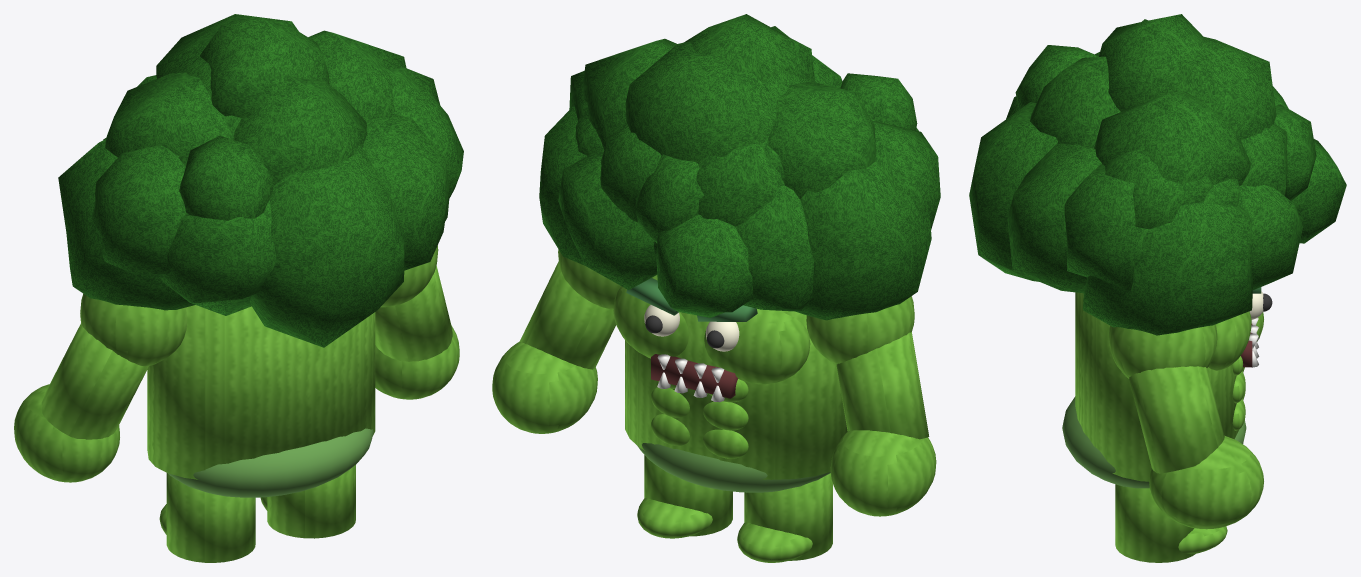
The model's file is broccoli_brute.glb.
3 views of the same model, side by side, from view 1: azimuth 30°, elevation 25°; view 2: azimuth 150°, elevation 25°; view 3: azimuth 270°, elevation 25° (orthographic). The views are drawn at different scales.
Visible parts, largest first — view 1: BruteBody, BruteLeftArm, BruteRightArm, BruteLeftLeg, BruteRightLeg; view 2: BruteBody, BruteLeftArm, BruteRightArm, BruteLeftLeg, BruteRightLeg; view 3: BruteBody, BruteRightArm, BruteRightLeg.
Part boxes in pixels (x1,y1,x2,y2): BruteBody: [58, 14, 463, 497]; BruteLeftArm: [14, 294, 187, 482]; BruteRightArm: [375, 245, 459, 399]; BruteLeftLeg: [159, 473, 255, 562]; BruteRightLeg: [260, 465, 355, 538]; BruteBody: [539, 14, 940, 492]; BruteLeftArm: [806, 296, 936, 516]; BruteRightArm: [492, 249, 620, 433]; BruteLeftLeg: [737, 473, 832, 562]; BruteRightLeg: [637, 455, 732, 538]; BruteBody: [969, 14, 1346, 488]; BruteRightArm: [1108, 324, 1263, 529]; BruteRightLeg: [1115, 484, 1227, 562].
Bounding box in the file's own units: 2.22 × 2.57 × 1.74.
8 materials, 2 textured.
